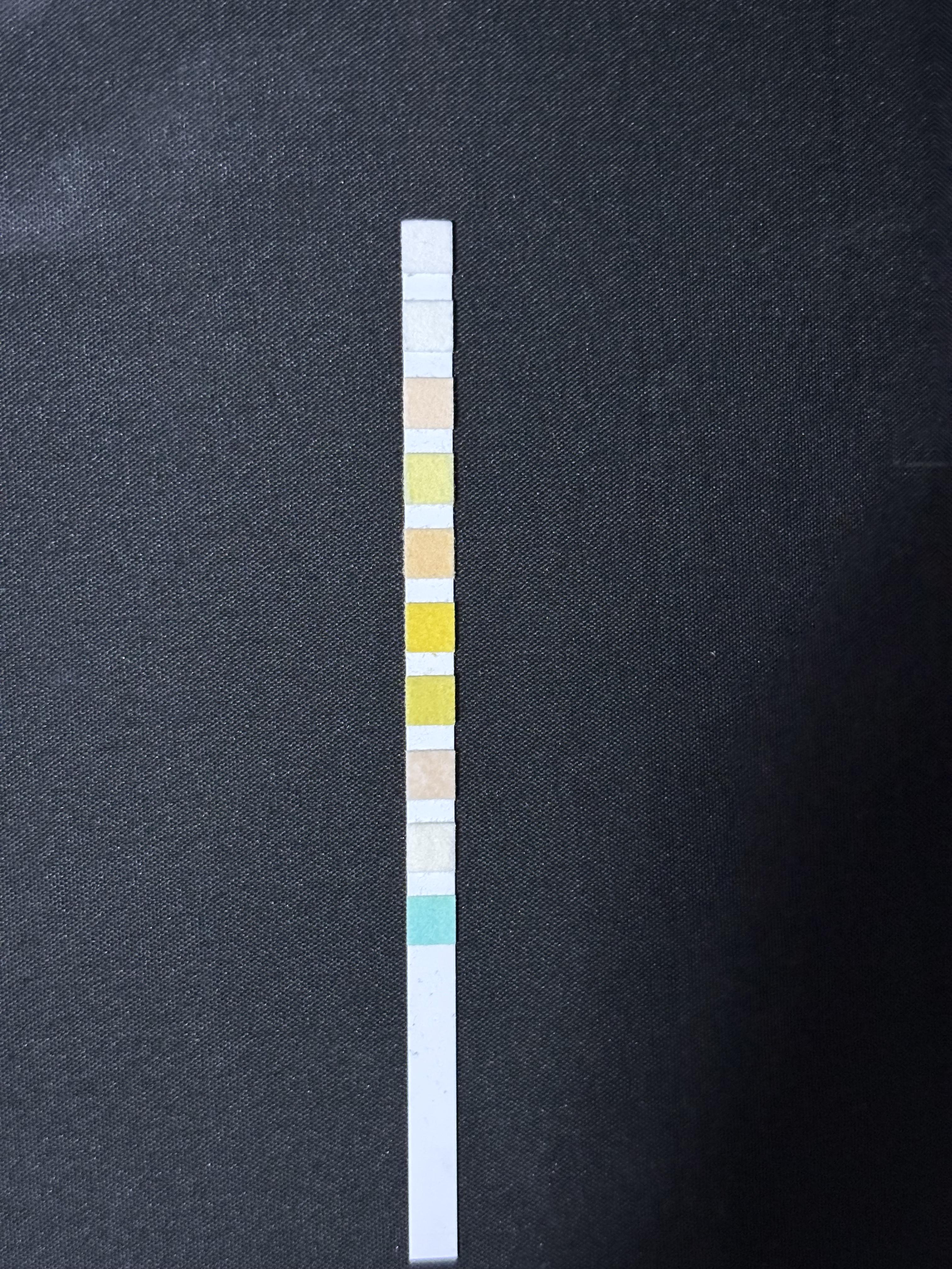Bilirubin: (407, 823, 455, 871)
Blood: (407, 604, 454, 651)
Glucose: (409, 897, 456, 944)
Ketone: (407, 751, 455, 799)
Leukocytes: (402, 221, 452, 273)
Nitrite: (404, 302, 453, 350)
Protein: (404, 454, 453, 503)
SpGravity: (407, 677, 454, 724)
Urobilinogen: (405, 378, 453, 427)
pH: (406, 529, 453, 577)
strip: (402, 219, 457, 1260)
